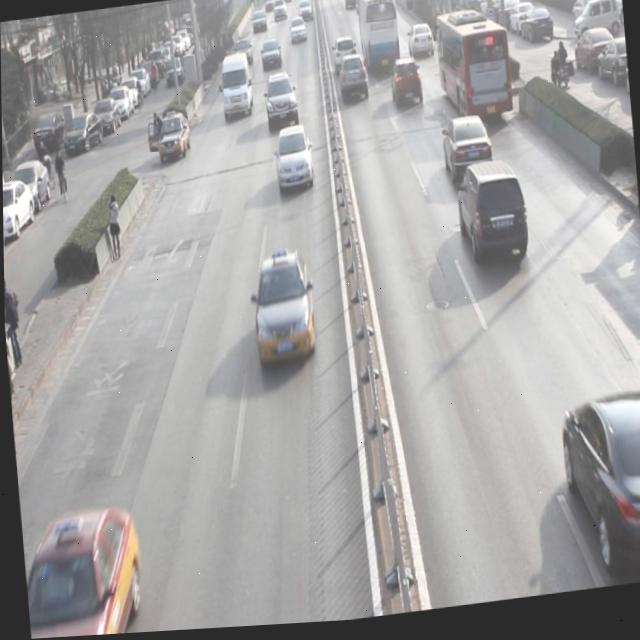car: (558, 390, 640, 597), (20, 516, 149, 639), (456, 160, 530, 277), (249, 253, 319, 376), (439, 115, 494, 192), (270, 125, 314, 197), (262, 73, 300, 134), (387, 58, 423, 114), (154, 114, 191, 165), (336, 58, 369, 105), (405, 22, 436, 65), (333, 38, 357, 78), (259, 41, 283, 73), (233, 37, 254, 72), (288, 19, 308, 46)
truck: (218, 54, 255, 124)
van: (434, 10, 514, 129), (356, 0, 401, 76)
